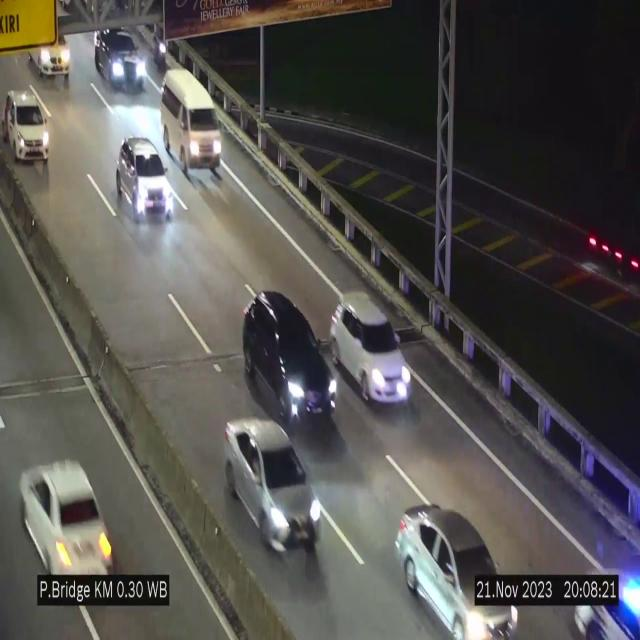Car: (395, 508, 517, 640), (23, 438, 121, 588), (241, 292, 339, 436), (224, 418, 322, 548), (330, 290, 414, 404), (162, 69, 222, 177), (112, 132, 177, 224), (567, 571, 640, 640), (95, 18, 145, 98), (2, 91, 49, 160), (24, 36, 74, 78)
